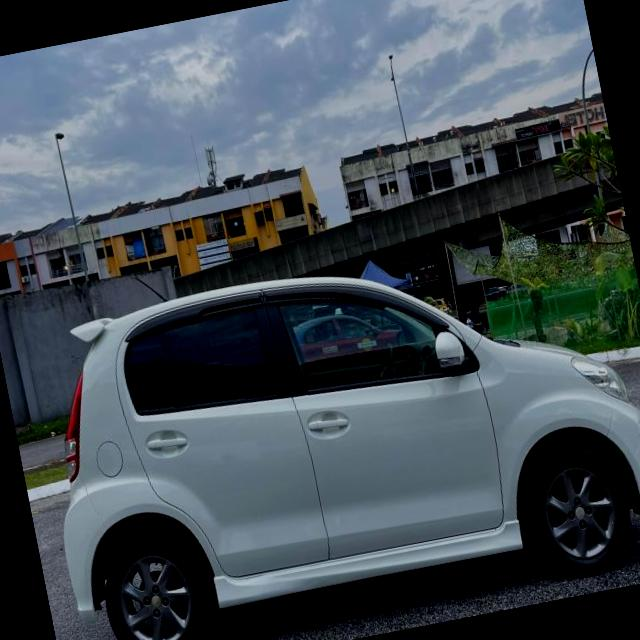PeroduaMyvi: (20, 210, 640, 640)
